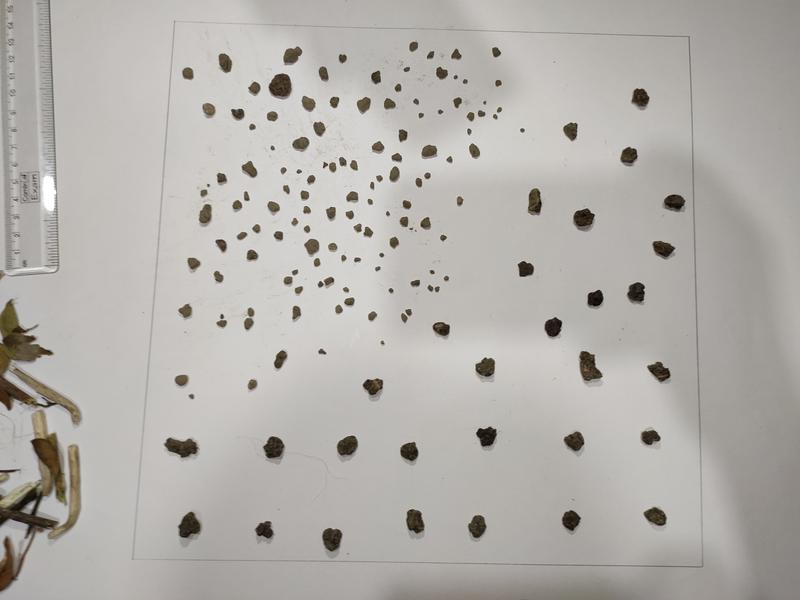Moti Mitti: (468, 348, 499, 380), (643, 354, 672, 387), (175, 510, 203, 544), (393, 437, 424, 467), (577, 349, 604, 383), (473, 421, 501, 453), (257, 434, 289, 462), (333, 428, 360, 461), (160, 437, 201, 458), (560, 428, 589, 454), (267, 72, 292, 102), (641, 506, 672, 529), (623, 280, 649, 306), (571, 205, 597, 230), (320, 525, 343, 552), (560, 509, 585, 533), (651, 238, 676, 261), (405, 508, 426, 534), (467, 514, 488, 540), (360, 376, 385, 396), (586, 288, 606, 313), (629, 86, 651, 108), (527, 188, 543, 217), (543, 316, 564, 338), (639, 428, 663, 447), (283, 45, 303, 67), (663, 193, 687, 211), (254, 520, 275, 540), (561, 122, 582, 141), (271, 349, 290, 370), (241, 159, 260, 179), (620, 146, 640, 165), (432, 321, 453, 339), (216, 52, 233, 74), (300, 238, 320, 256), (291, 136, 312, 153), (300, 93, 316, 114), (517, 260, 535, 278), (356, 95, 372, 115), (419, 144, 439, 160), (198, 203, 213, 224), (177, 302, 194, 320), (311, 121, 327, 139), (323, 205, 339, 222), (247, 81, 262, 99), (369, 69, 384, 87), (316, 65, 330, 84), (448, 49, 467, 63), (185, 256, 201, 272), (180, 66, 195, 83), (173, 374, 190, 389), (213, 238, 230, 253), (370, 140, 388, 154), (227, 108, 246, 121), (345, 189, 360, 205), (468, 143, 482, 160), (244, 248, 260, 262), (201, 102, 216, 116), (264, 111, 279, 125), (267, 200, 282, 214), (388, 236, 403, 250), (434, 66, 449, 80), (290, 305, 304, 320), (452, 95, 463, 113), (328, 95, 342, 109), (211, 269, 225, 283), (364, 310, 379, 323), (243, 378, 260, 389), (242, 318, 256, 331), (398, 128, 408, 146), (389, 165, 399, 183), (348, 157, 359, 173), (421, 214, 431, 231), (326, 240, 339, 253), (384, 97, 396, 111), (491, 47, 503, 60), (272, 231, 286, 242), (351, 256, 366, 266), (217, 172, 229, 184), (306, 174, 319, 185), (339, 254, 350, 267), (407, 40, 418, 53), (215, 319, 228, 330), (282, 183, 292, 197), (343, 297, 357, 307), (338, 52, 347, 67), (338, 155, 347, 170), (248, 122, 260, 133), (399, 216, 410, 228), (410, 278, 421, 290), (246, 307, 258, 318), (344, 210, 357, 220), (323, 277, 337, 286), (313, 257, 324, 268), (300, 190, 312, 200), (467, 110, 475, 125), (402, 199, 412, 211), (283, 276, 295, 286), (233, 199, 242, 212), (329, 161, 337, 175), (299, 206, 313, 214), (392, 152, 403, 162), (293, 285, 304, 295), (477, 109, 486, 121), (364, 227, 373, 239), (353, 222, 362, 234), (372, 264, 382, 274), (237, 231, 247, 241), (445, 156, 456, 165), (458, 196, 468, 205), (303, 225, 312, 235), (252, 224, 262, 233), (423, 172, 432, 181), (280, 166, 288, 176), (200, 188, 208, 197), (394, 83, 402, 92), (292, 217, 298, 229), (318, 348, 327, 356), (368, 181, 375, 191), (416, 178, 423, 188), (377, 251, 387, 258), (244, 190, 250, 201), (290, 270, 301, 276), (417, 112, 426, 119), (413, 97, 420, 106), (427, 284, 433, 293), (440, 233, 446, 241), (269, 145, 275, 152), (368, 198, 374, 205), (429, 269, 436, 275), (443, 275, 449, 281), (493, 114, 497, 122), (436, 285, 440, 293), (322, 162, 328, 167), (438, 110, 444, 115), (219, 314, 225, 319), (296, 170, 304, 173), (497, 108, 501, 114), (483, 101, 486, 106), (386, 211, 389, 216)
